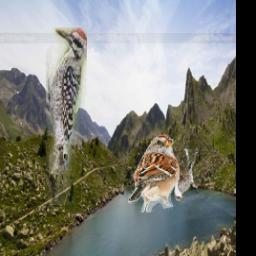Cuckoo: (175, 150, 199, 202)
Sparrow: (128, 134, 180, 212)
Woodpecker: (47, 29, 88, 206)
